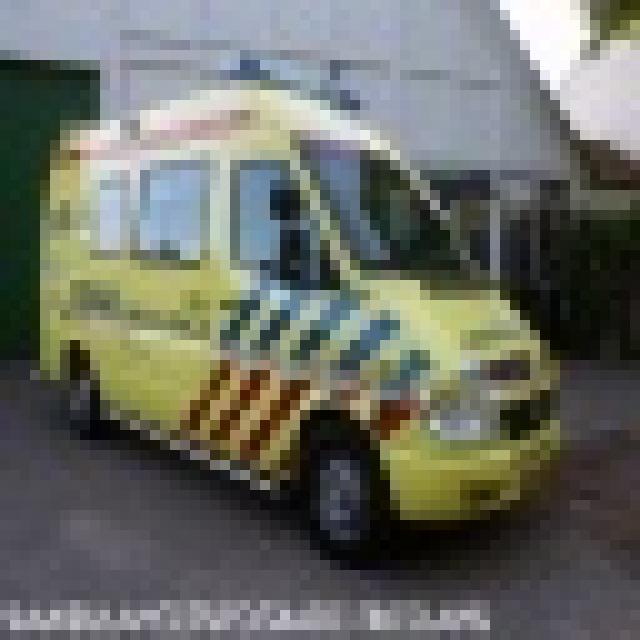Ambulance: (30, 50, 560, 560)
